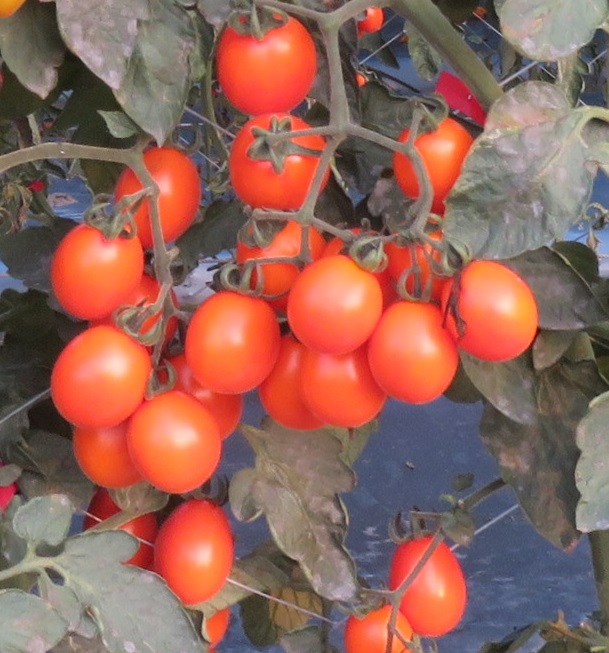orange: (50, 319, 153, 431), (368, 292, 459, 408), (282, 255, 384, 358), (185, 290, 283, 396), (50, 210, 144, 320), (126, 388, 224, 492), (445, 259, 540, 365), (218, 15, 322, 111), (228, 114, 333, 202), (161, 492, 234, 615), (390, 534, 473, 639), (298, 349, 388, 426), (135, 147, 201, 251), (393, 128, 484, 202), (340, 607, 417, 653)
